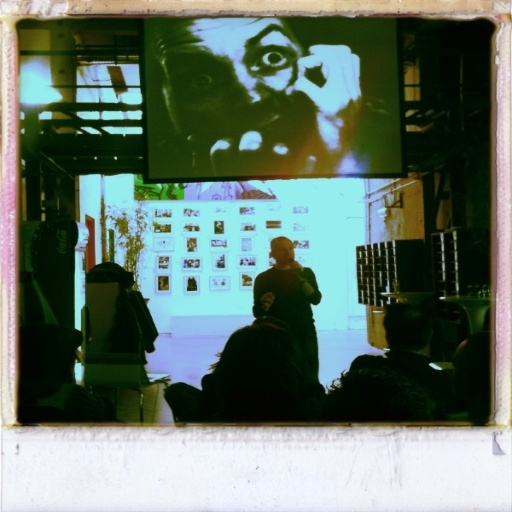hand: (279, 41, 366, 147), (187, 128, 317, 176), (288, 259, 302, 275), (261, 291, 274, 307)
